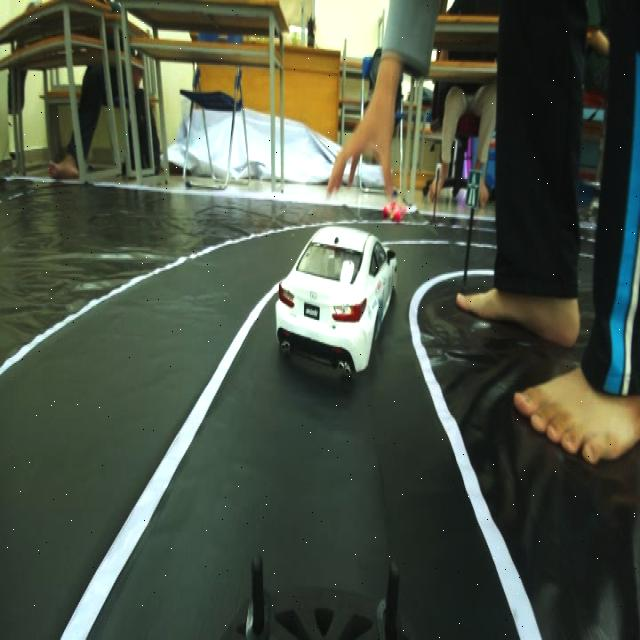car: (284, 196, 401, 390)
highway_entry: (458, 162, 485, 215)
